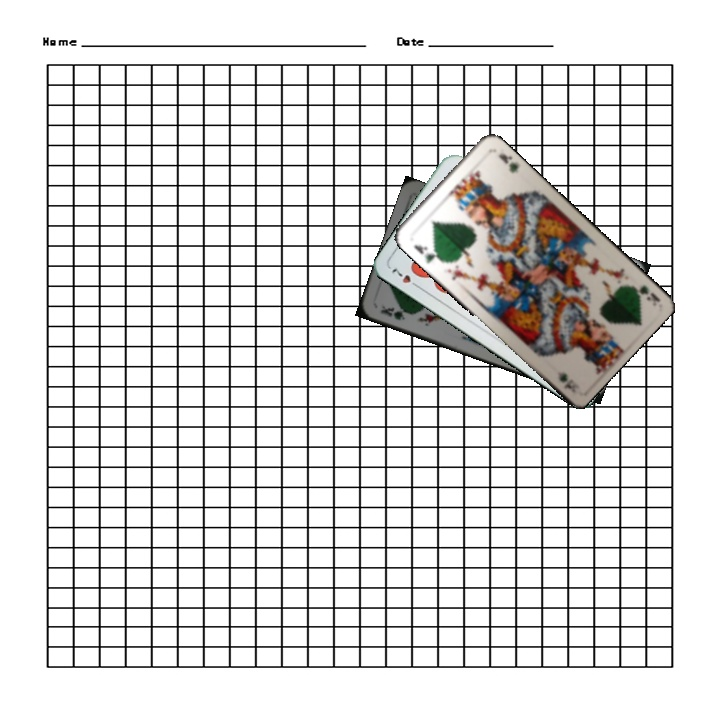GK: (623, 279, 662, 307), (410, 240, 442, 266), (376, 302, 414, 323)
H7: (388, 264, 423, 291)
